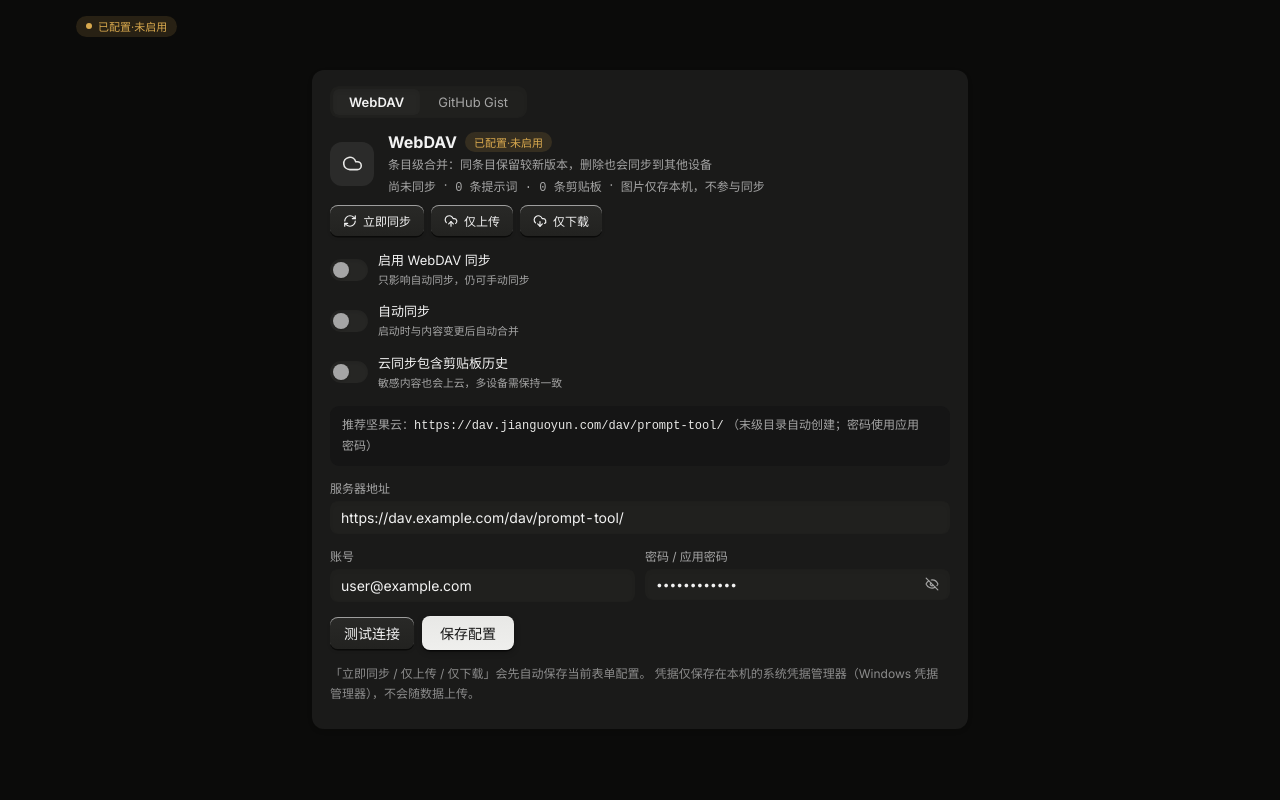
it: SyncPane：云同步设置 › 同步失败时状态条显示错误
Click the button "立即同步". click: x=377, y=220
box: [330, 205, 424, 236]
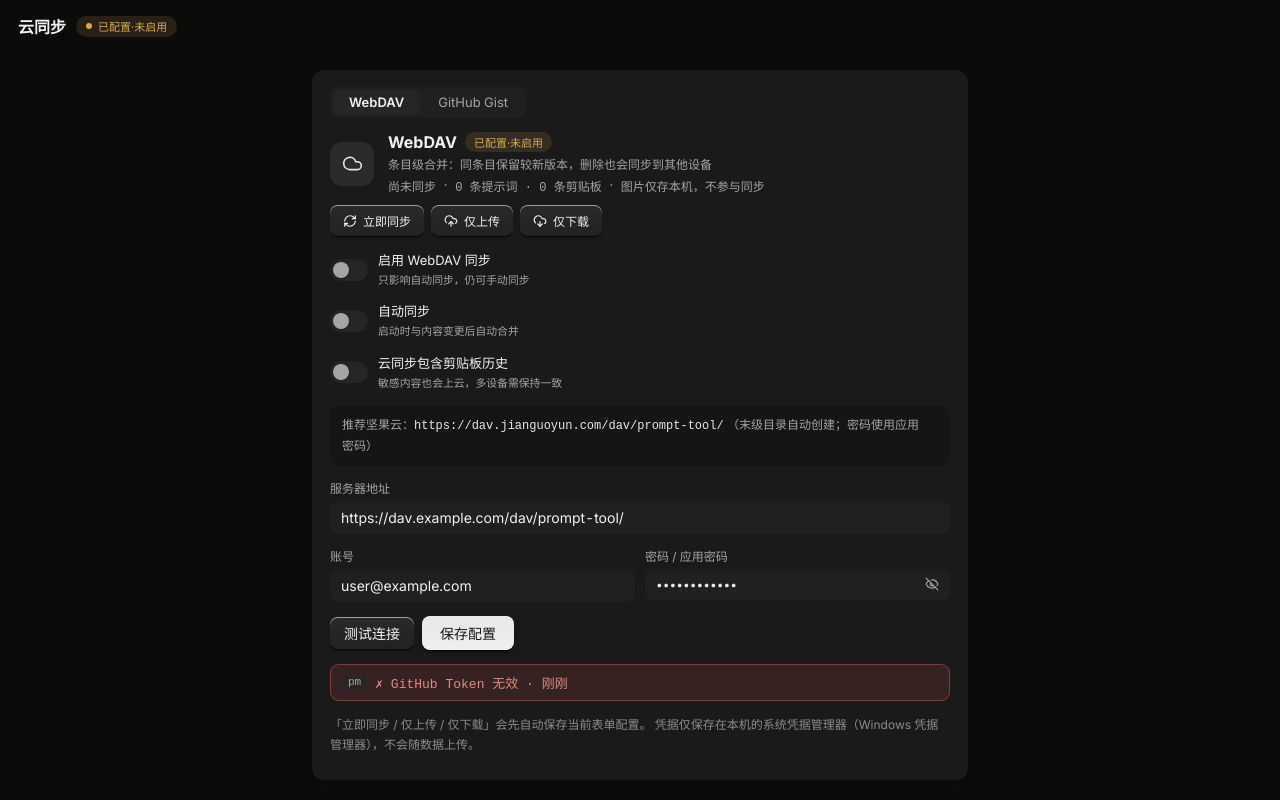
Check: the element with class "status" shows "✗ GitHub Token 无效", box [375, 677, 518, 692]
